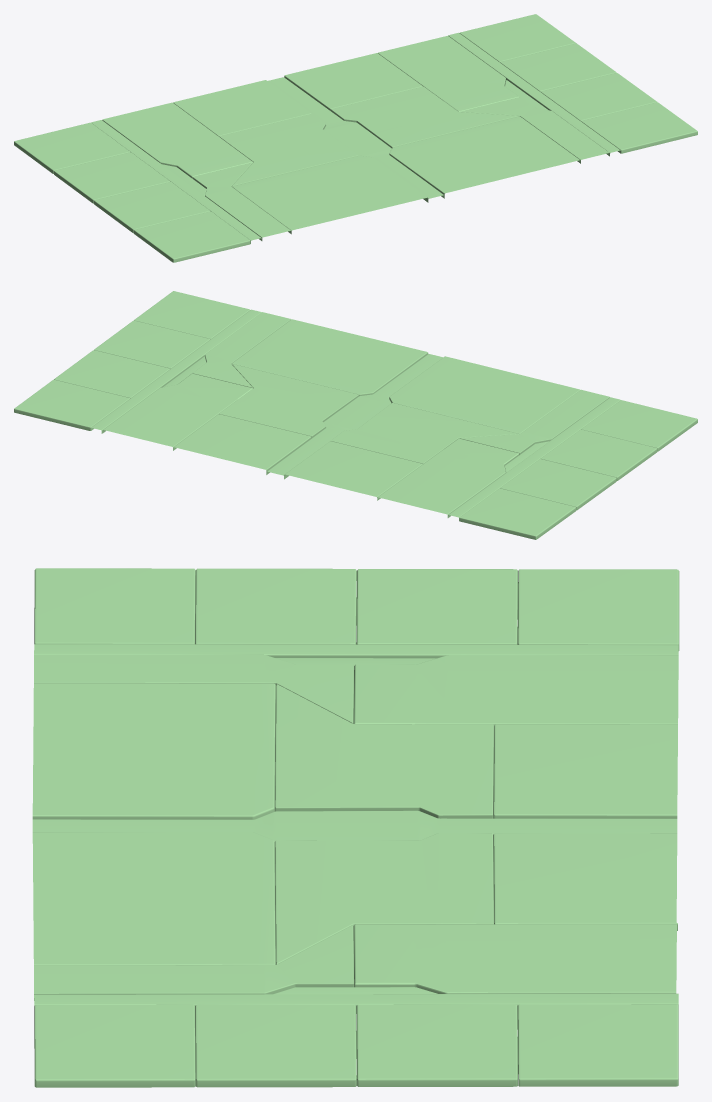
File: FloorScifi.fbx
3 views of the same model, one above another, from view 1: azimuth 30°, elevation 25°; view 2: azimuth 150°, elevation 25°; view 3: azimuth 270°, elevation 25° (orthographic). The views are drawn at different scales.
Parts seen in each view (by area): view 1: Floor01; view 2: Floor01; view 3: Floor01.
Boxes of the visible parts, <box> form: Floor01: <box>14,14,697,262</box>; Floor01: <box>14,291,697,539</box>; Floor01: <box>32,568,679,1087</box>.
Size of the model in its own units: 11480 by 119 by 6122.
